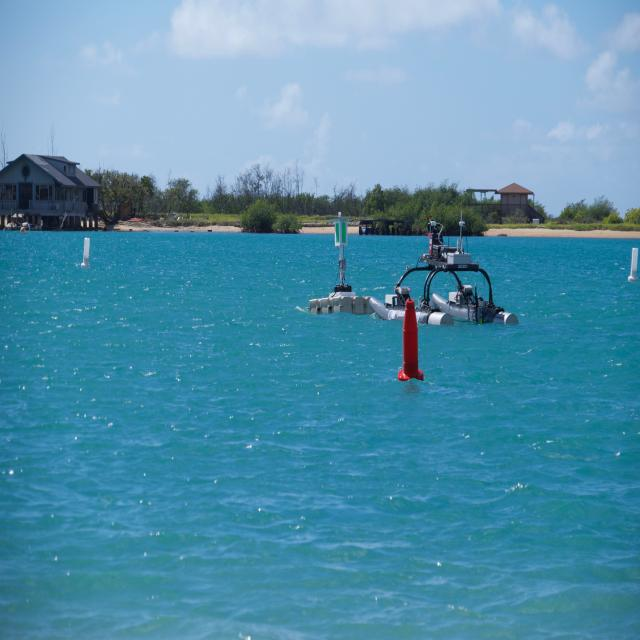Red_Buoy: (399, 299, 424, 380)
Wam_V: (370, 219, 522, 326)
White_Buoy: (629, 243, 639, 284), (80, 232, 91, 268)
